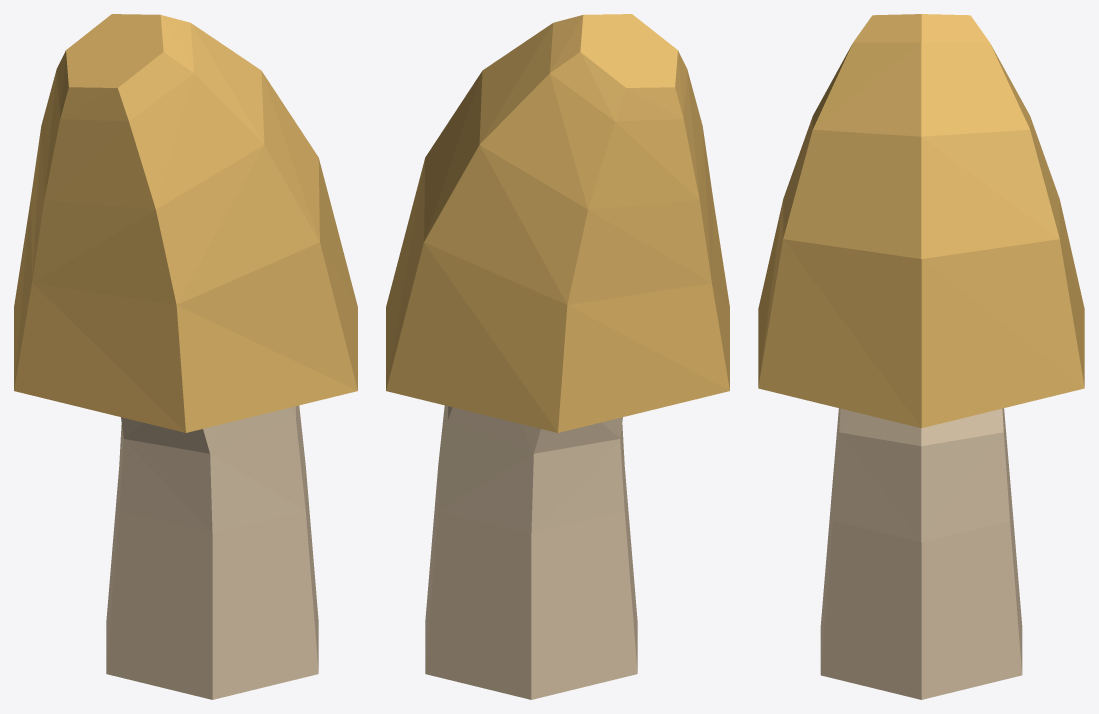
Rendered from mushroom_yellow.fbx.
3 views of the same model, side by side, from view 1: azimuth 30°, elevation 25°; view 2: azimuth 150°, elevation 25°; view 3: azimuth 270°, elevation 25° (orthographic). The views are drawn at different scales.
Visible parts, largest first — view 1: prop_mushrooms_smallest_geo_1; view 2: prop_mushrooms_smallest_geo_1; view 3: prop_mushrooms_smallest_geo_1.
Part boxes in pixels (<box>): prop_mushrooms_smallest_geo_1: <box>14,14,357,699</box>; prop_mushrooms_smallest_geo_1: <box>386,14,729,699</box>; prop_mushrooms_smallest_geo_1: <box>758,14,1084,699</box>.
Bounding box in the file's own units: 11.37 × 20.41 × 9.85.
